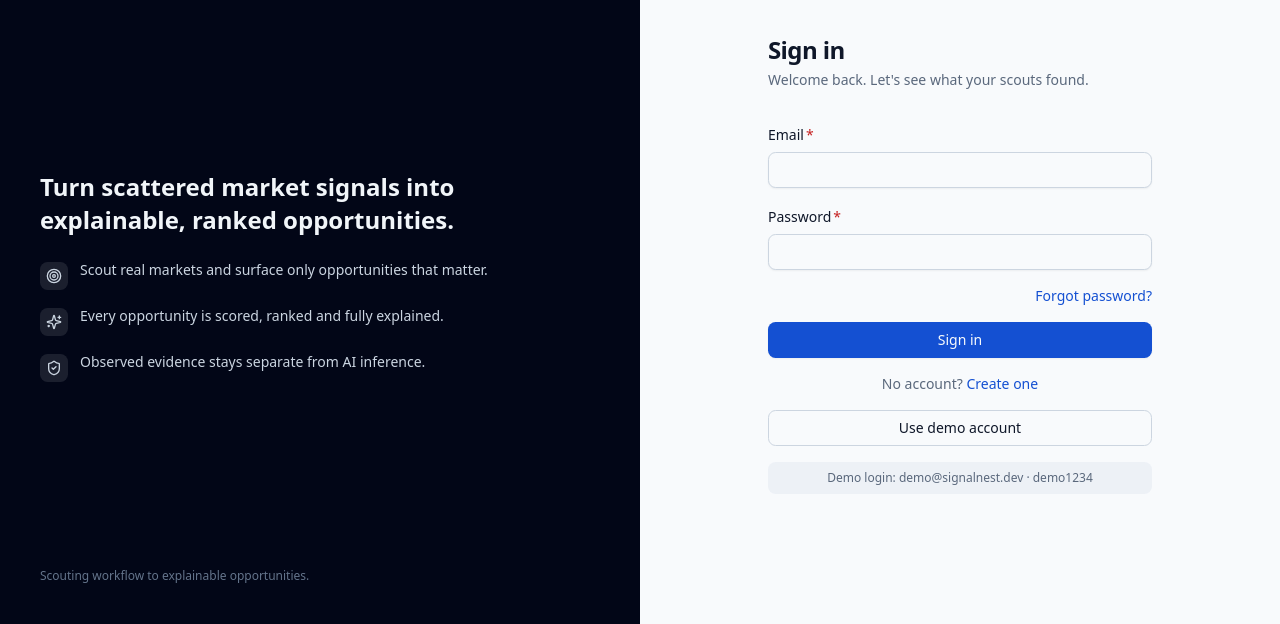
Test case: route inventory (plan §5A.3) › /scout-requests sends a signed-out visitor to sign-in, then back after sign-in
The width and height of the screenshot is (1280, 624).
expect the heading "Sign in" is shown: met, box [768,33,845,66]
expect the heading "Scout requests" is not shown: met
Click the button "Use demo account".
click(960, 428)  # box [768,410,1152,446]
(page scrolled)
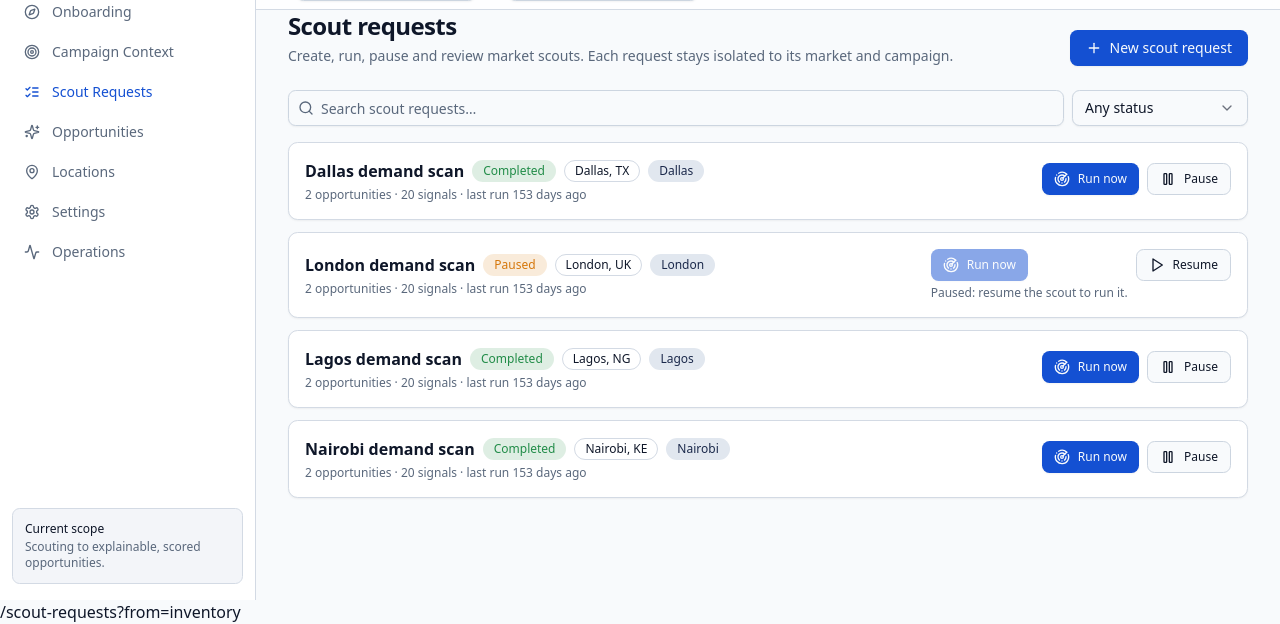
expect the heading "Scout requests" is shown: met, box [288,9,456,42]
